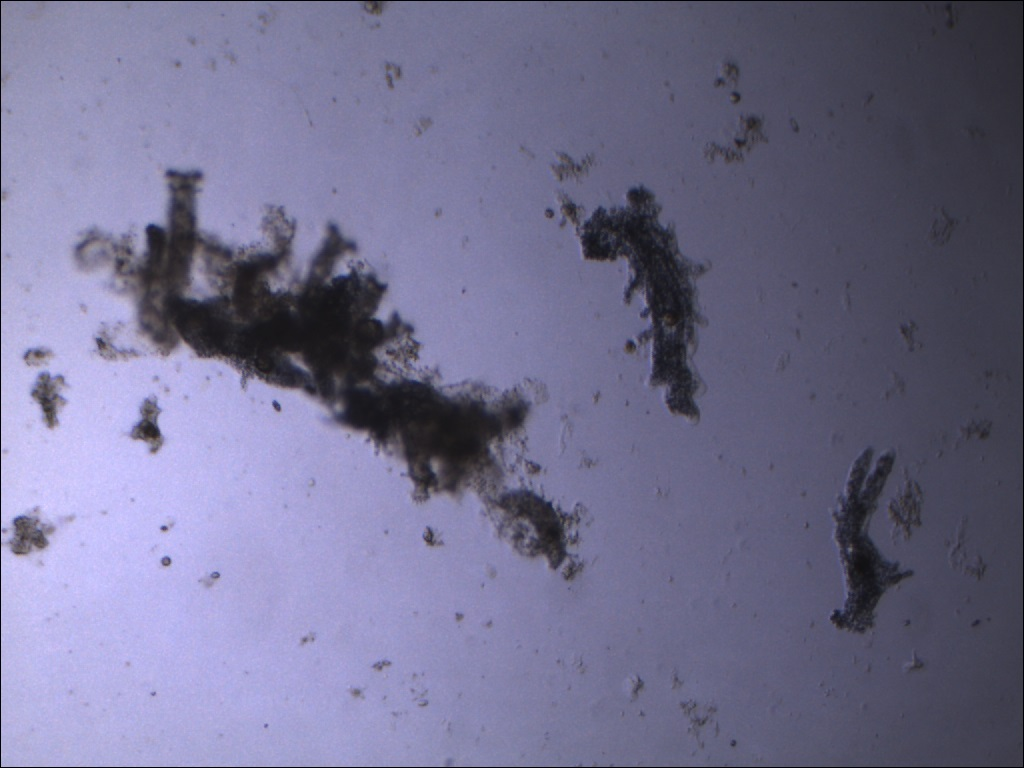amoeba: (574, 179, 721, 429), (821, 441, 921, 641)
